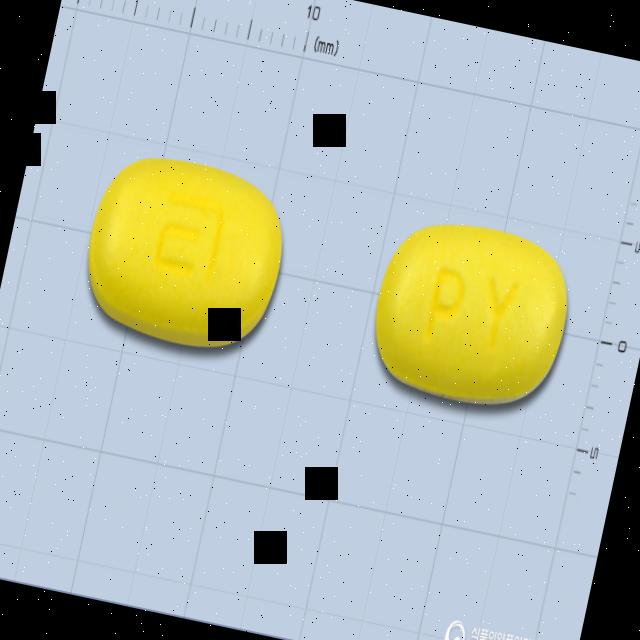Pilocin Tab: (71, 146, 296, 360), (361, 211, 582, 420)
